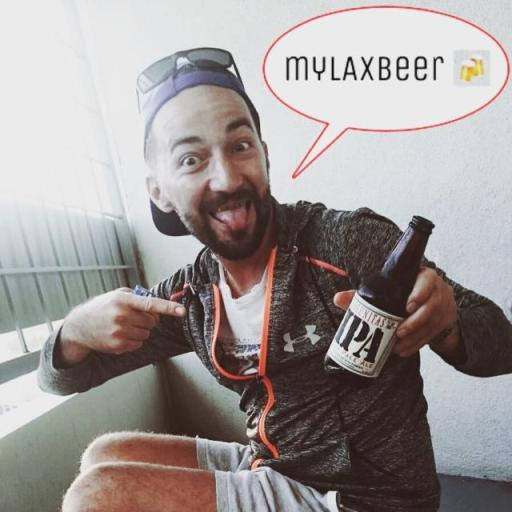Under Armour: (279, 320, 321, 356)
